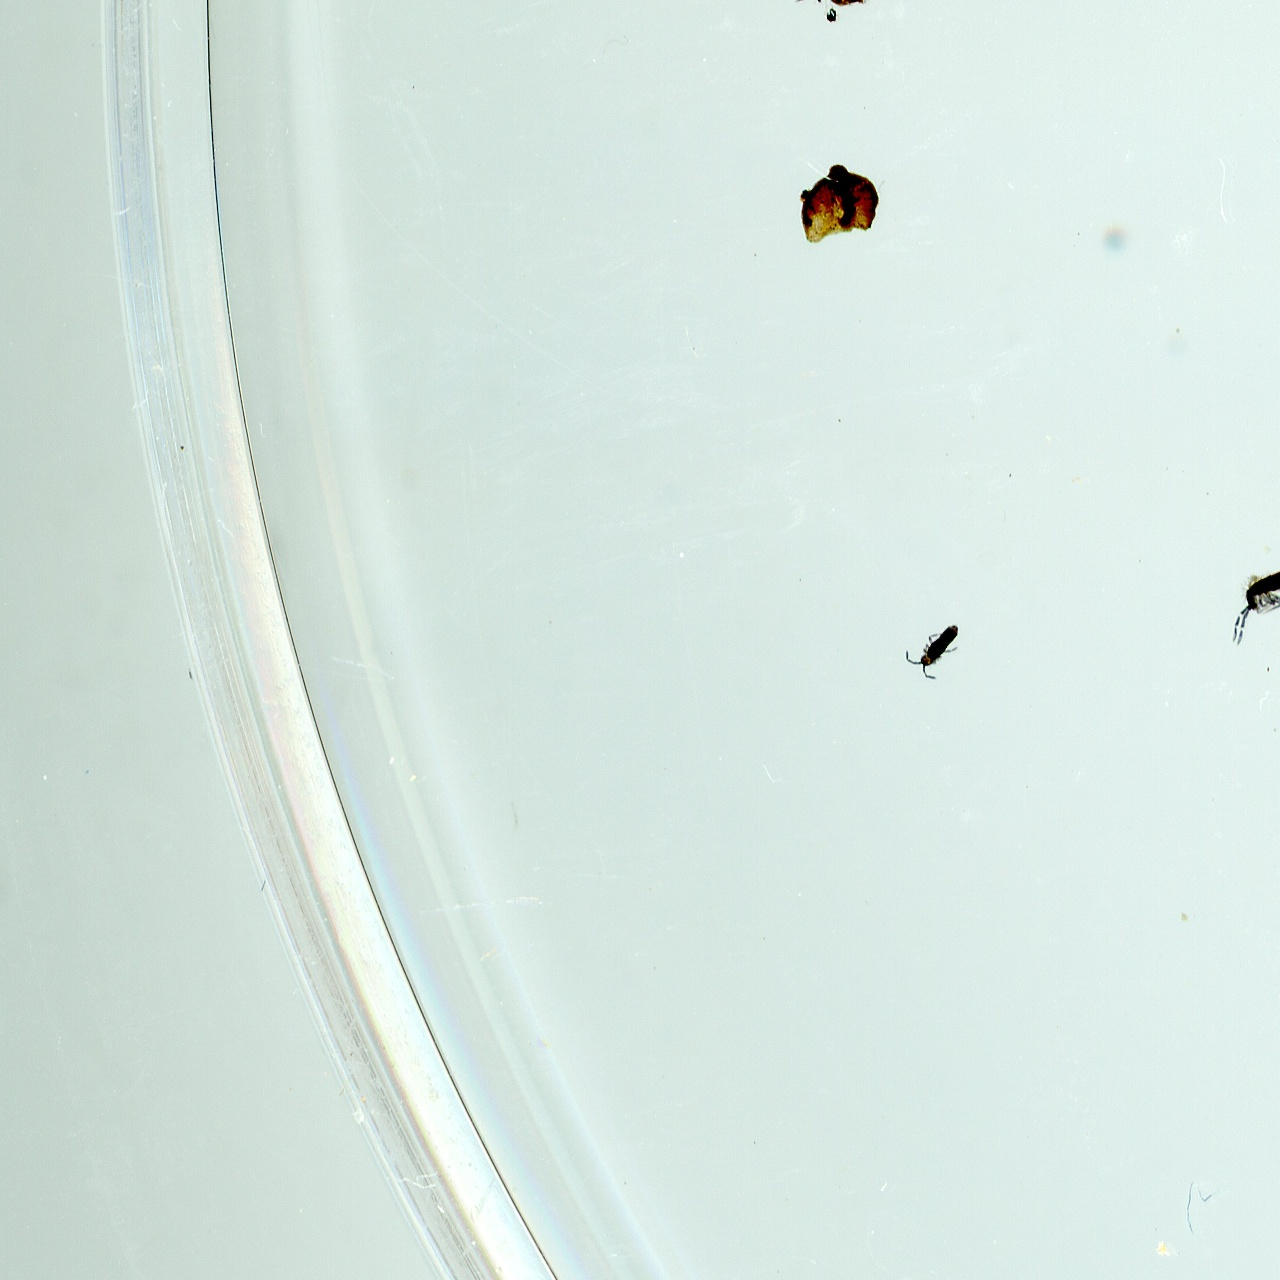arthropod: (893, 599, 979, 693), (1226, 525, 1280, 655)
